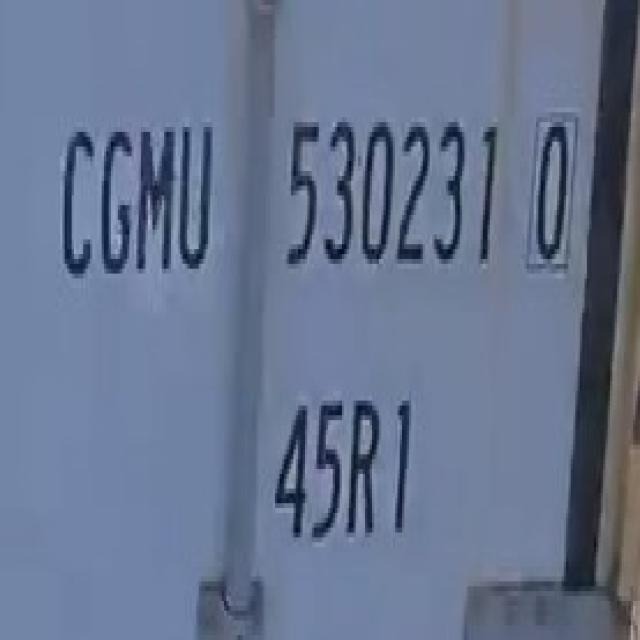dv: (522, 102, 583, 295)
owner: (43, 91, 228, 308)
serial: (271, 74, 504, 317)
size: (268, 388, 427, 552)
